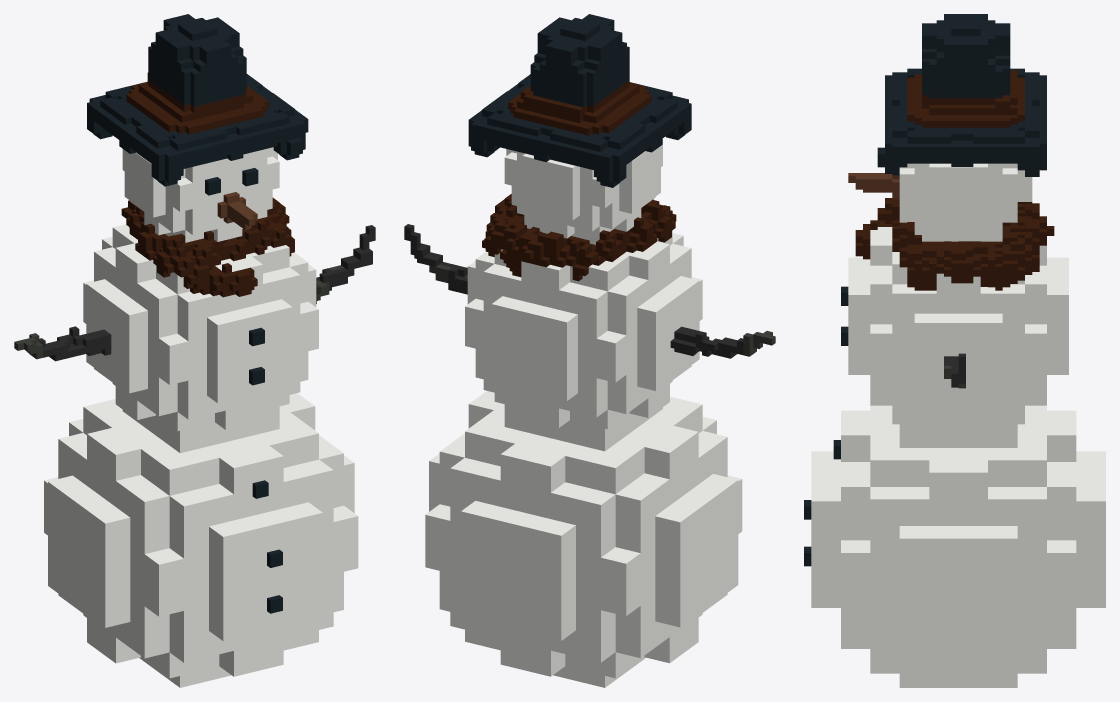
Rendered from snowman.glb.
3 renders of one model, left to right at view 1: azimuth 30°, elevation 25°; view 2: azimuth 150°, elevation 25°; view 3: azimuth 270°, elevation 25°, orthographic. The views are drawn at different scales.
Parts seen in each view (by area): view 1: Untitled; view 2: Untitled; view 3: Untitled.
Part boxes in pixels (<box>): Untitled: <box>14,14,375,687</box>; Untitled: <box>404,14,775,687</box>; Untitled: <box>804,14,1105,687</box>.
Size of the model in its own units: 5.8 by 9.6 by 4.1.
1 material, 1 textured.
